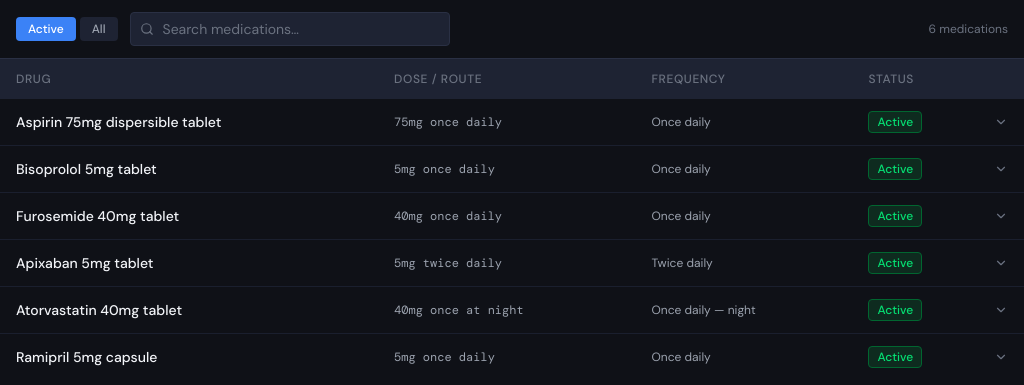
Test: MedicationsPanel › shows no medications message when search has no results
The width and height of the screenshot is (1024, 385).
In the search field with placeholder "Search medications…": (290, 29) top-left (130, 12), bottom-right (450, 46), type "Vancomycin"
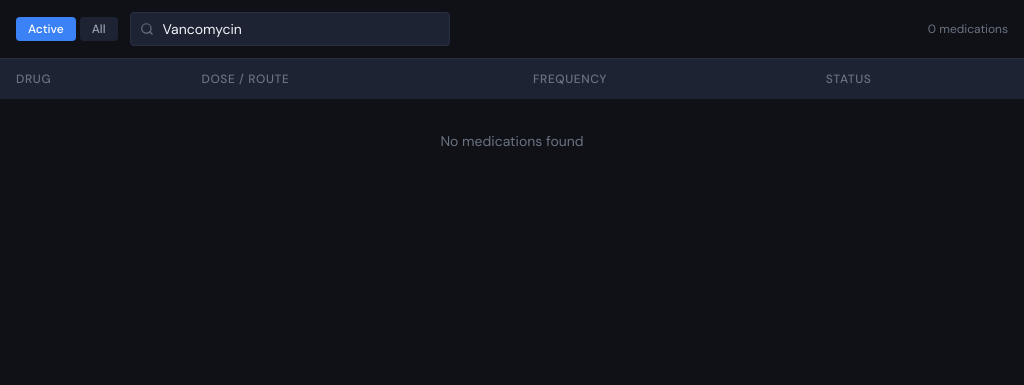
expect the text "No medications found" is shown: met, box top-left (0, 99), bottom-right (1023, 183)
